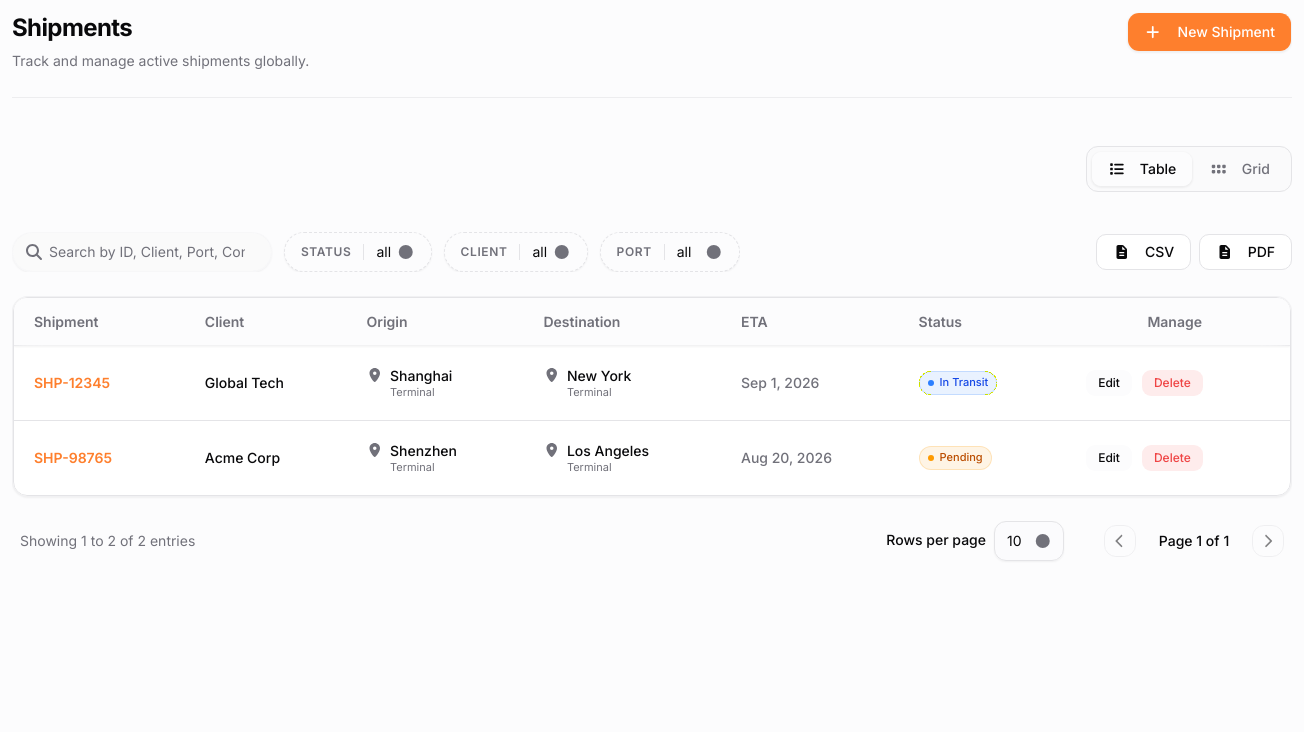
Test case: Shipments Page › filters shipments based on search input
This screenshot has width=1304, height=732.
Type "Global Tech" into the search field with placeholder "Search by ID, Client, Port, Container..." at (142, 252), box [12,232,272,272]
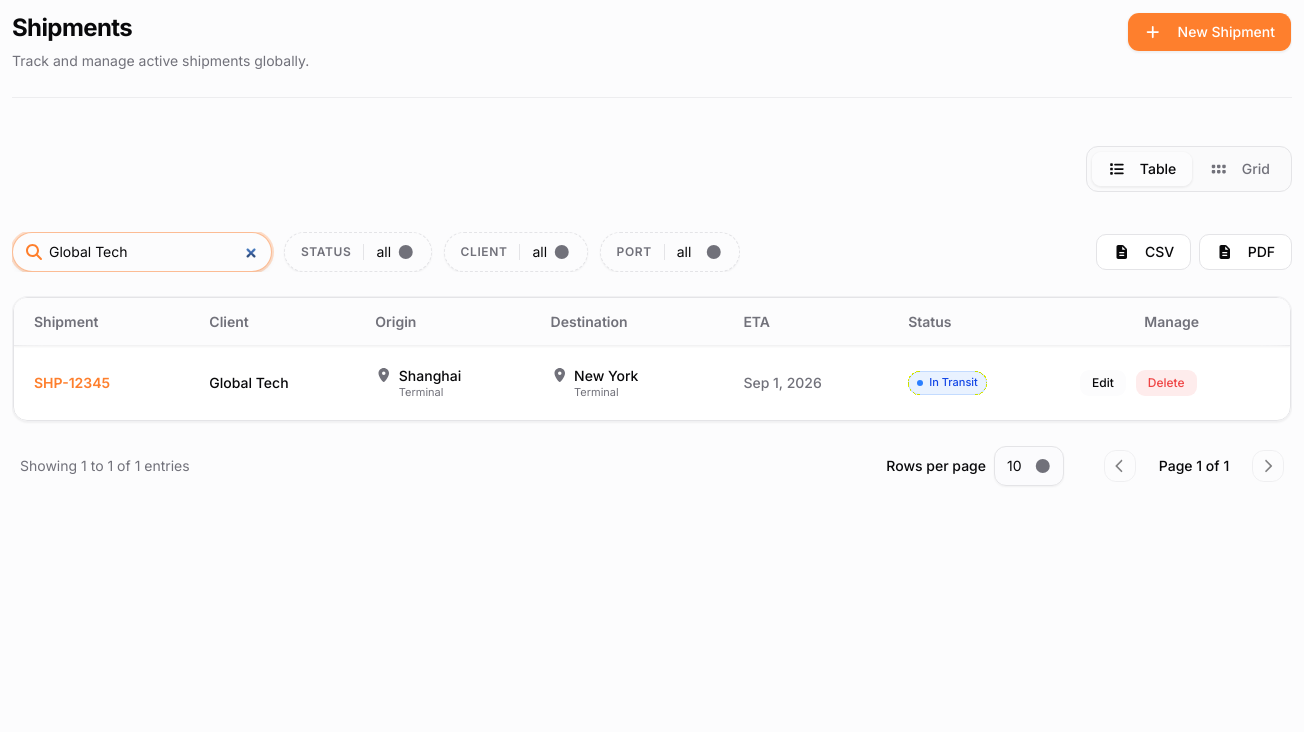
Expected: the link "SHP-12345" is shown, [34,374,110,391]
Now the link "SHP-98765" is gone
